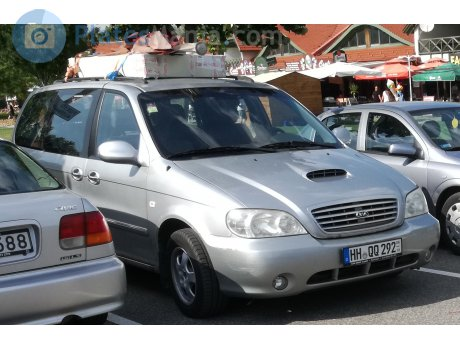License Plates: (347, 247, 399, 256)
